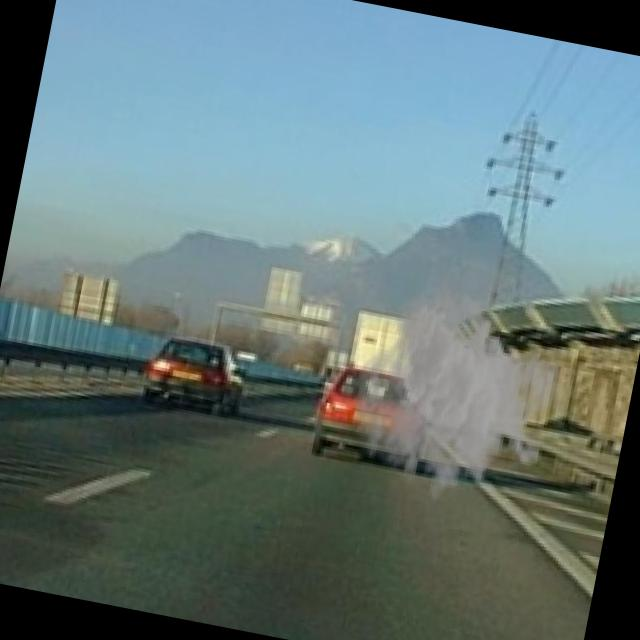Smoke: (333, 264, 579, 531)
